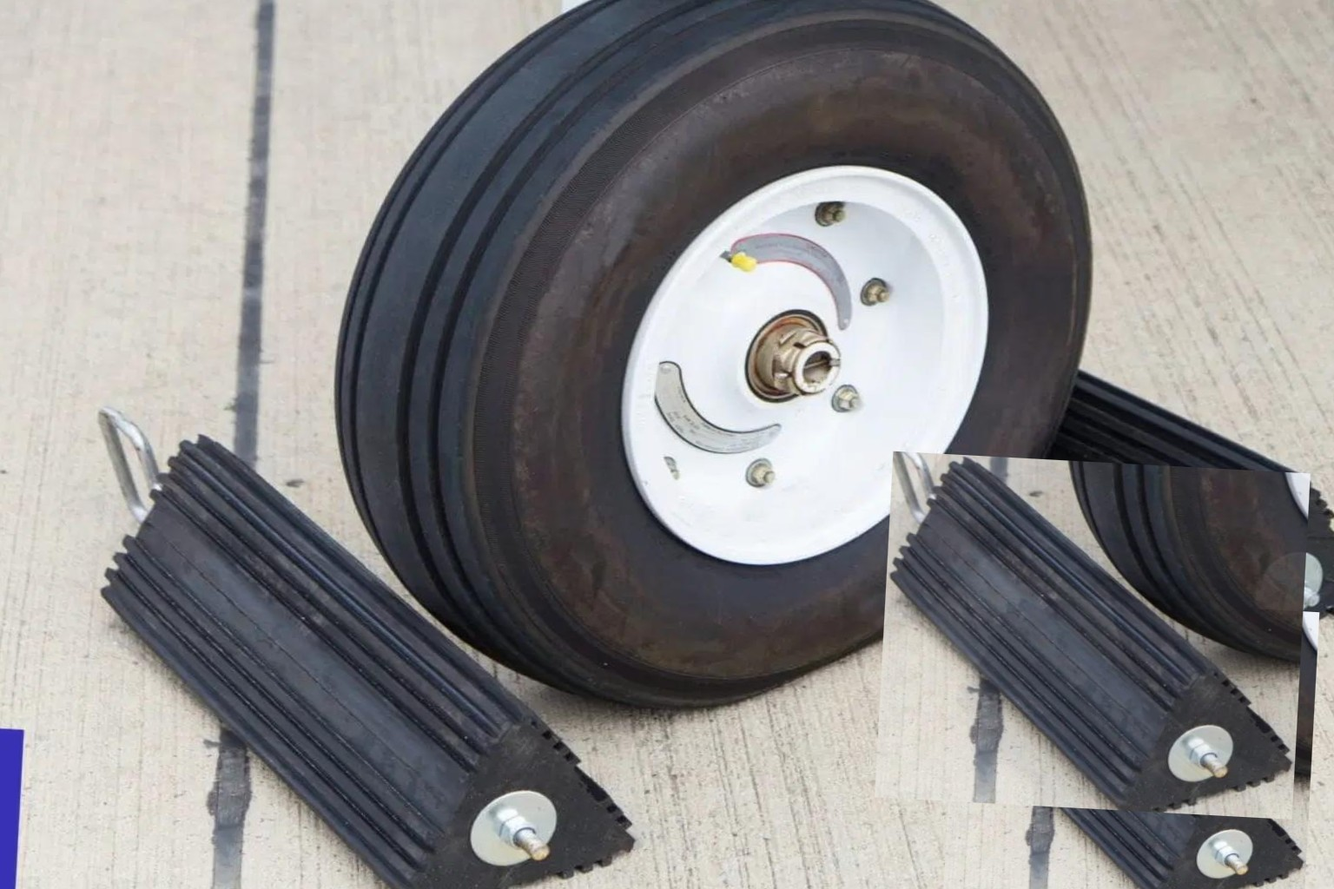chock: (81, 427, 660, 889), (875, 451, 1310, 820), (844, 341, 1334, 663), (943, 593, 1320, 889)
wheel: (313, 0, 1112, 738)
